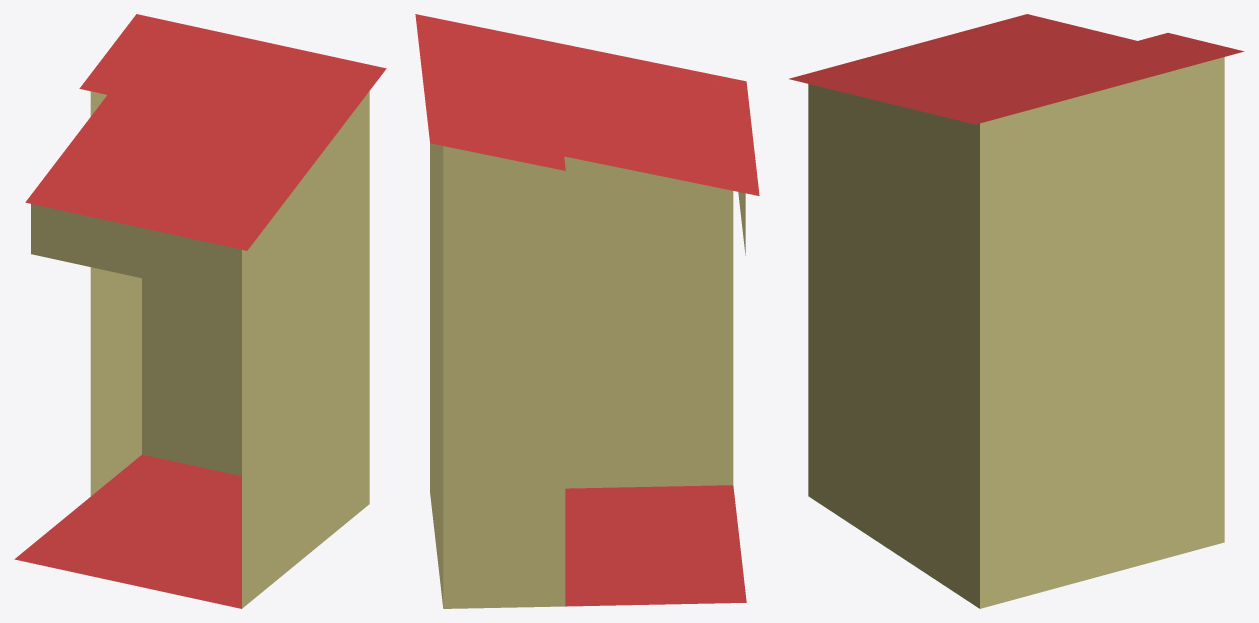
3 views of the same model, side by side, from view 1: azimuth 30°, elevation 25°; view 2: azimuth 150°, elevation 25°; view 3: azimuth 270°, elevation 25° (orthographic). The views are drawn at different scales.
Size of the model in its own units: 7.68 by 7.89 by 9.39.
